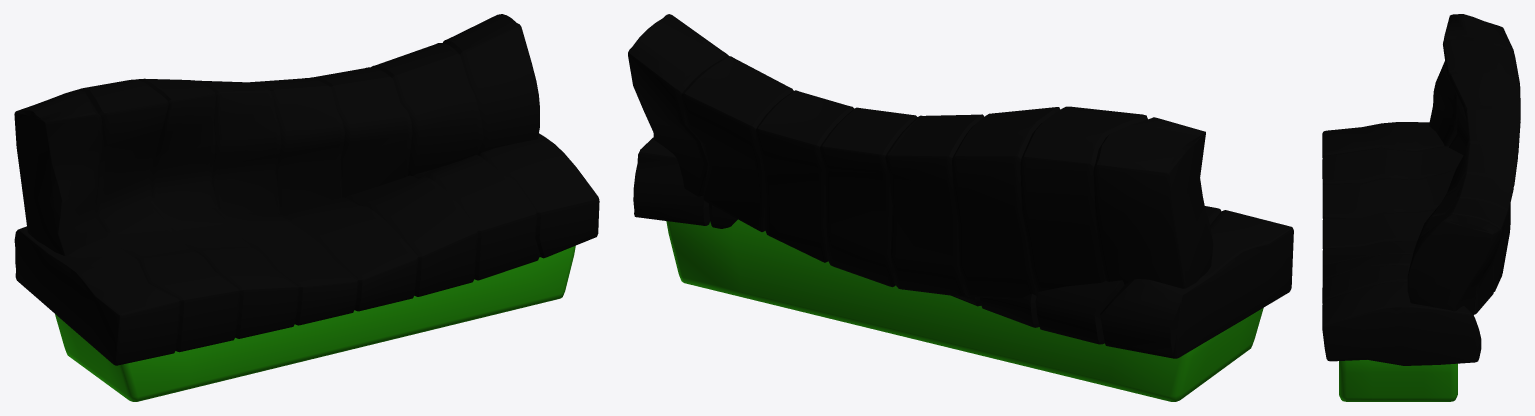
File: AbandonedCouch_AD.fbx
3 views of the same model, side by side, from view 1: azimuth 30°, elevation 25°; view 2: azimuth 150°, elevation 25°; view 3: azimuth 270°, elevation 25° (orthographic). The views are drawn at different scales.
Parts seen in each view (by area): view 1: AbandonedCouch_AD; view 2: AbandonedCouch_AD; view 3: AbandonedCouch_AD.
Boxes of the visible parts, x1,y1,x2,y2 form: AbandonedCouch_AD: (14, 14, 599, 401); AbandonedCouch_AD: (628, 14, 1293, 401); AbandonedCouch_AD: (1322, 14, 1520, 401).
Bounding box in the file's own units: 278 × 133 × 118.
